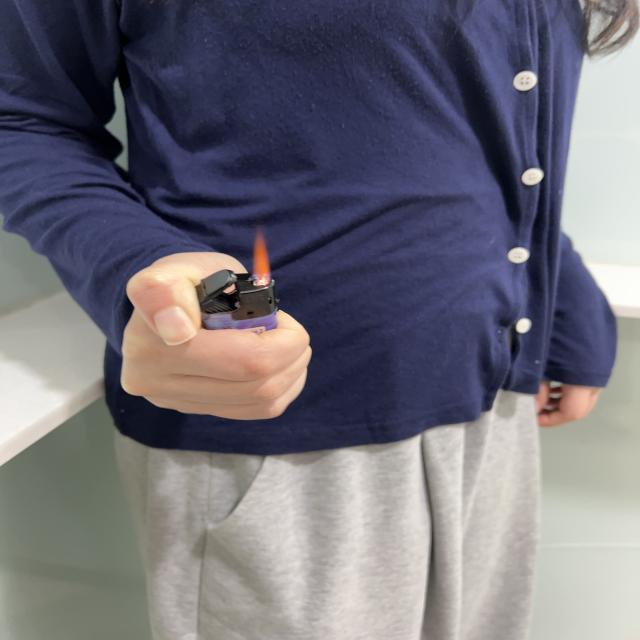fire: (252, 228, 272, 286)
